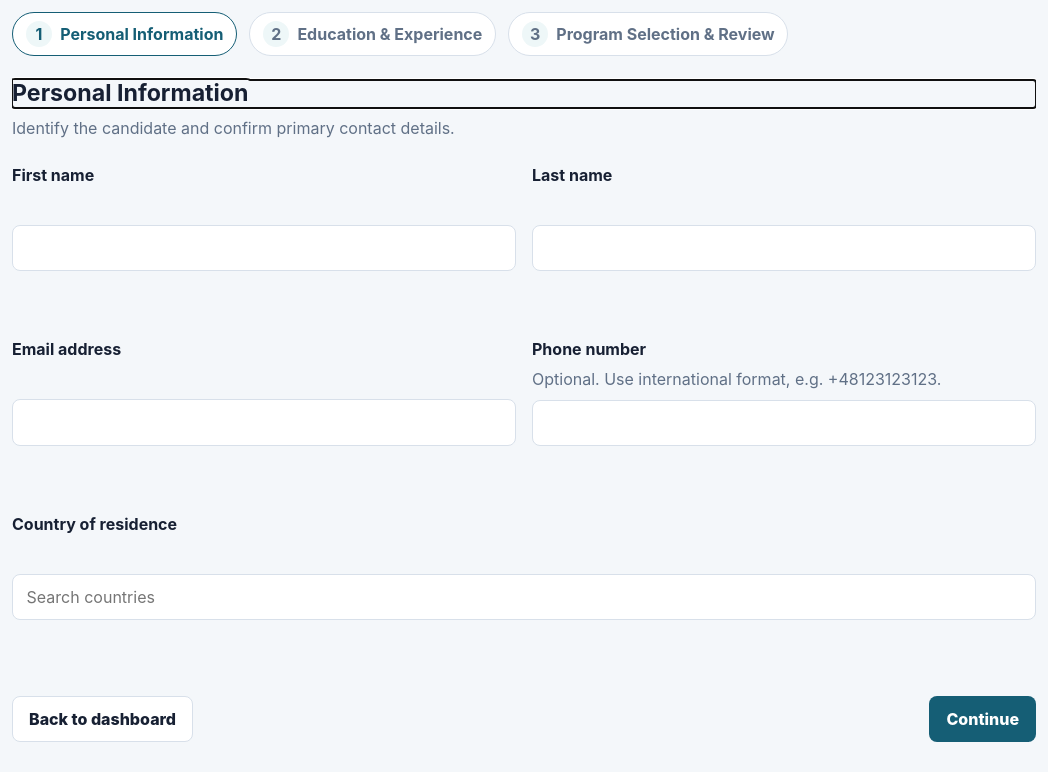
Test: RegistrationWizard › focuses the first invalid field when continuing from an empty step
This screenshot has width=1048, height=772.
Click the button "Continue" at (983,719), box left=930, top=696, right=1036, bottom=742
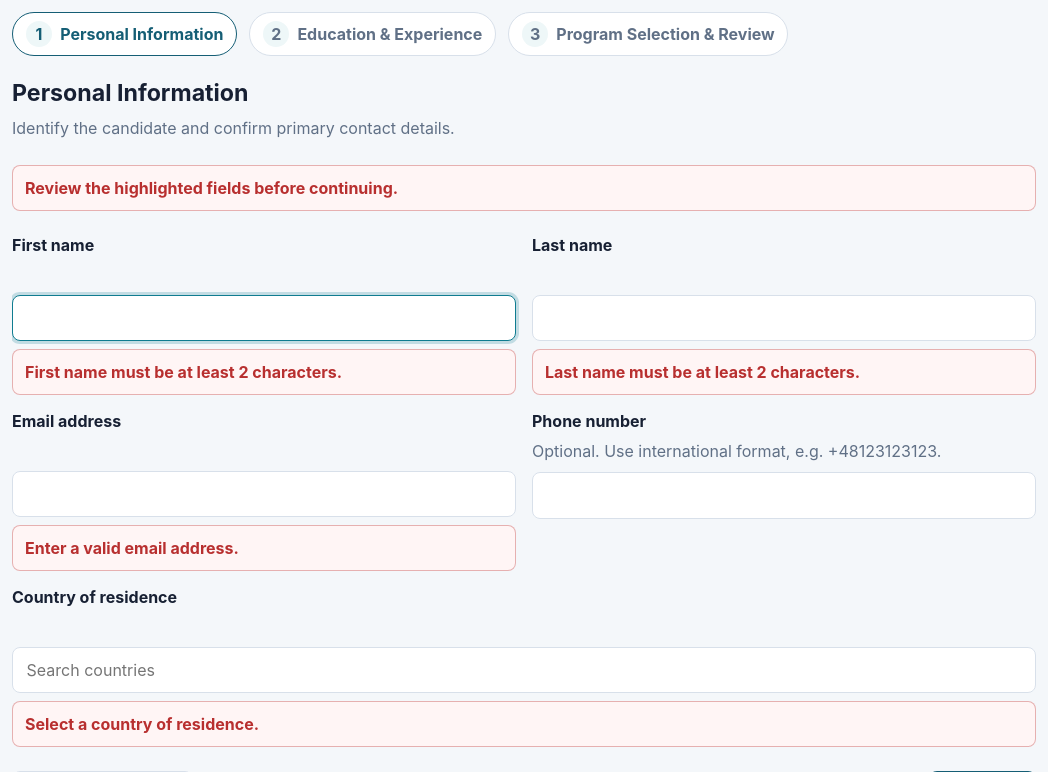
Result: the text "Review the highlighted fields before continuing." is shown at left=12, top=165, right=1036, bottom=211
